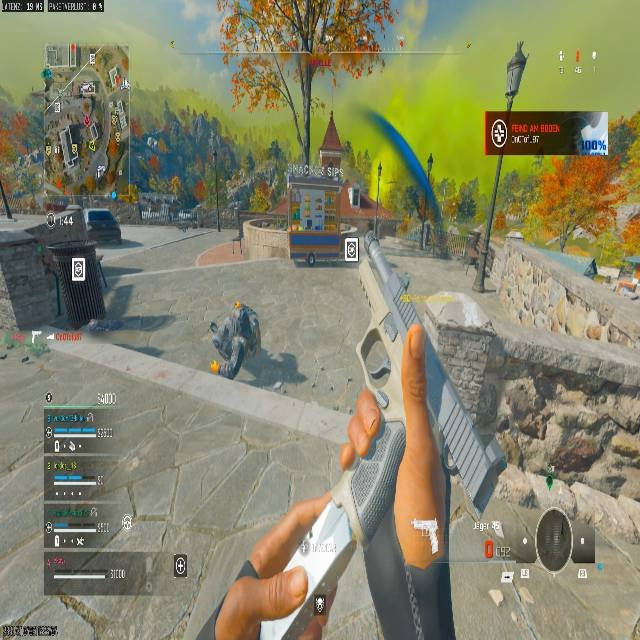player: (208, 300, 259, 378)
